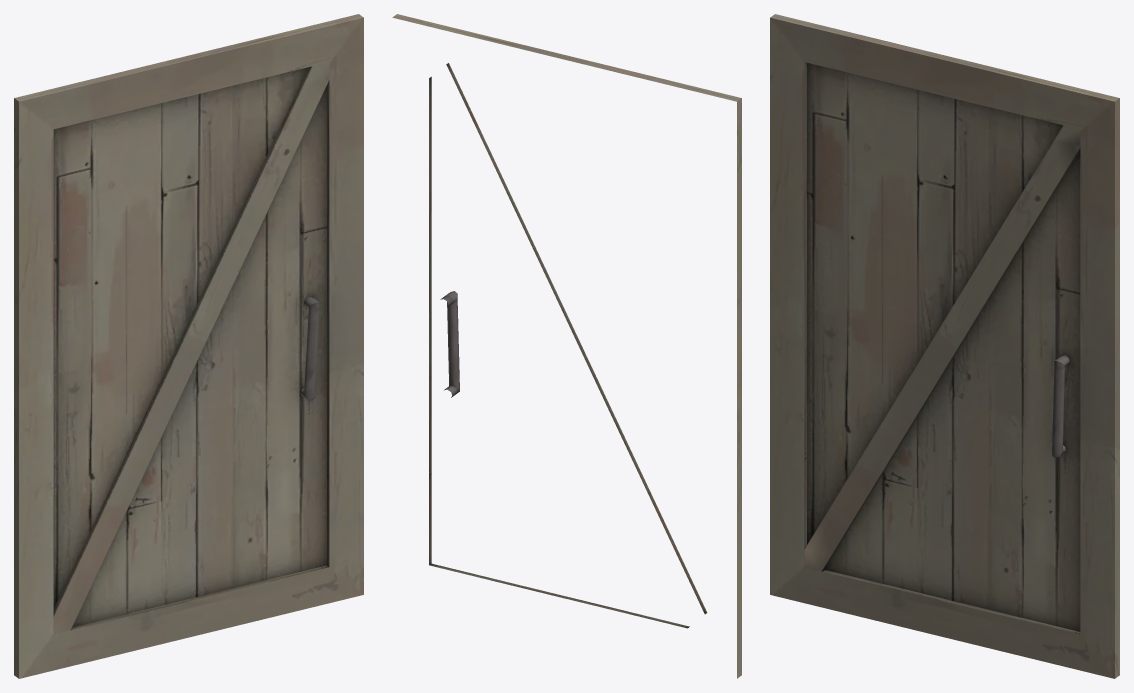
3 views of the same model, side by side, from view 1: azimuth 30°, elevation 25°; view 2: azimuth 150°, elevation 25°; view 3: azimuth 330°, elevation 25° (orthographic).
Parts seen in each view (by area): view 1: body0_model0_lod0_mesh0; view 2: body0_model0_lod0_mesh0; view 3: body0_model0_lod0_mesh0.
Boxes of the visible parts, x1,y1,x2,y2 form: body0_model0_lod0_mesh0: (14,14,363,678); body0_model0_lod0_mesh0: (392,14,741,678); body0_model0_lod0_mesh0: (770,14,1119,678).
Bounding box in the file's own units: 79.99 × 128 × 4.53.
1 material, 1 textured.
